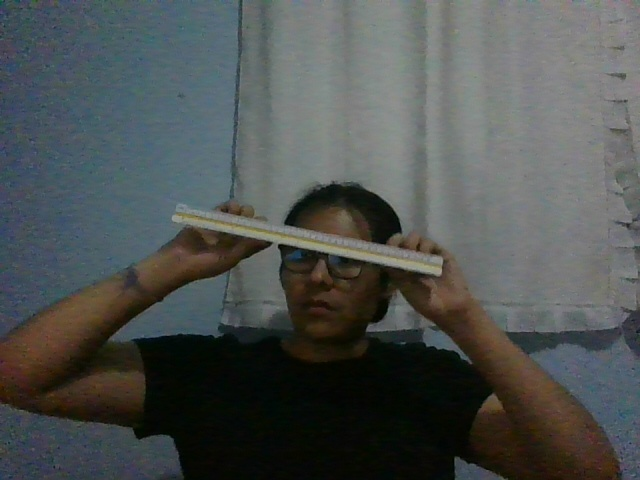regla: (172, 202, 444, 278)
